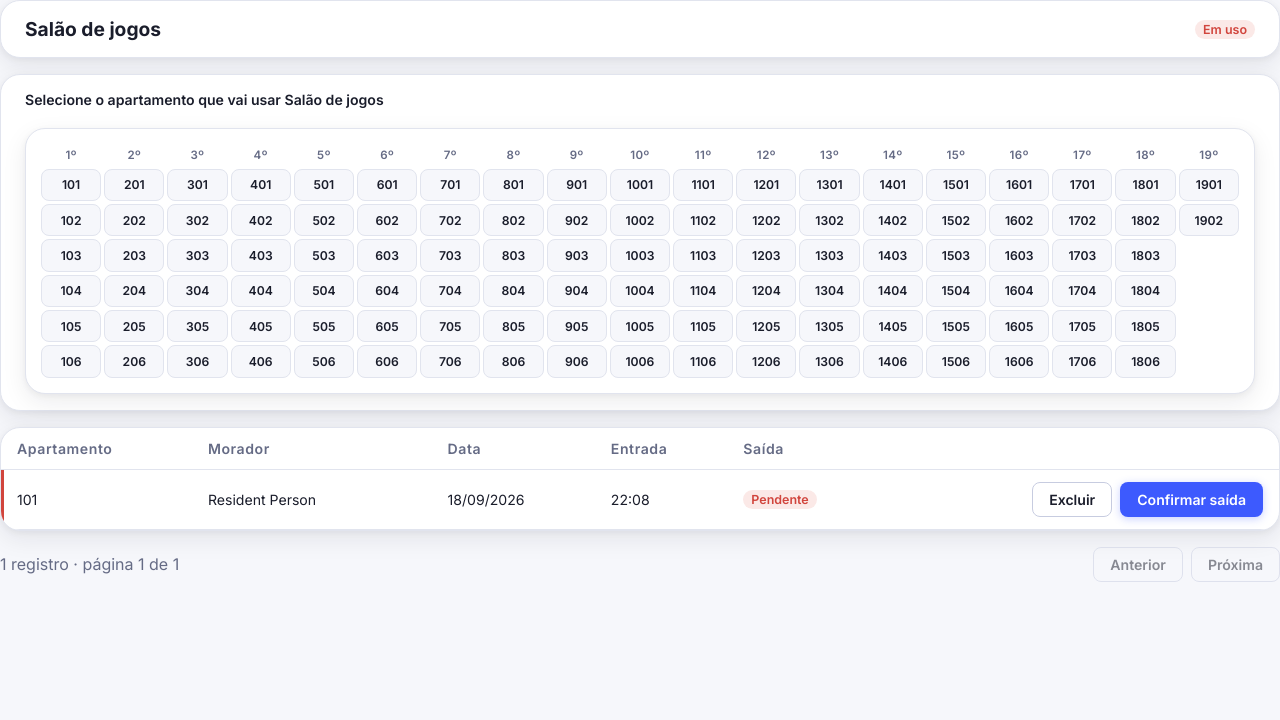
Scenario: MezaninoRoomPanel › shows an error toast when confirming an exit fails
The image size is (1280, 720).
Click the button "Confirmar saída" at (1192, 499), box [1120,482,1263,517]
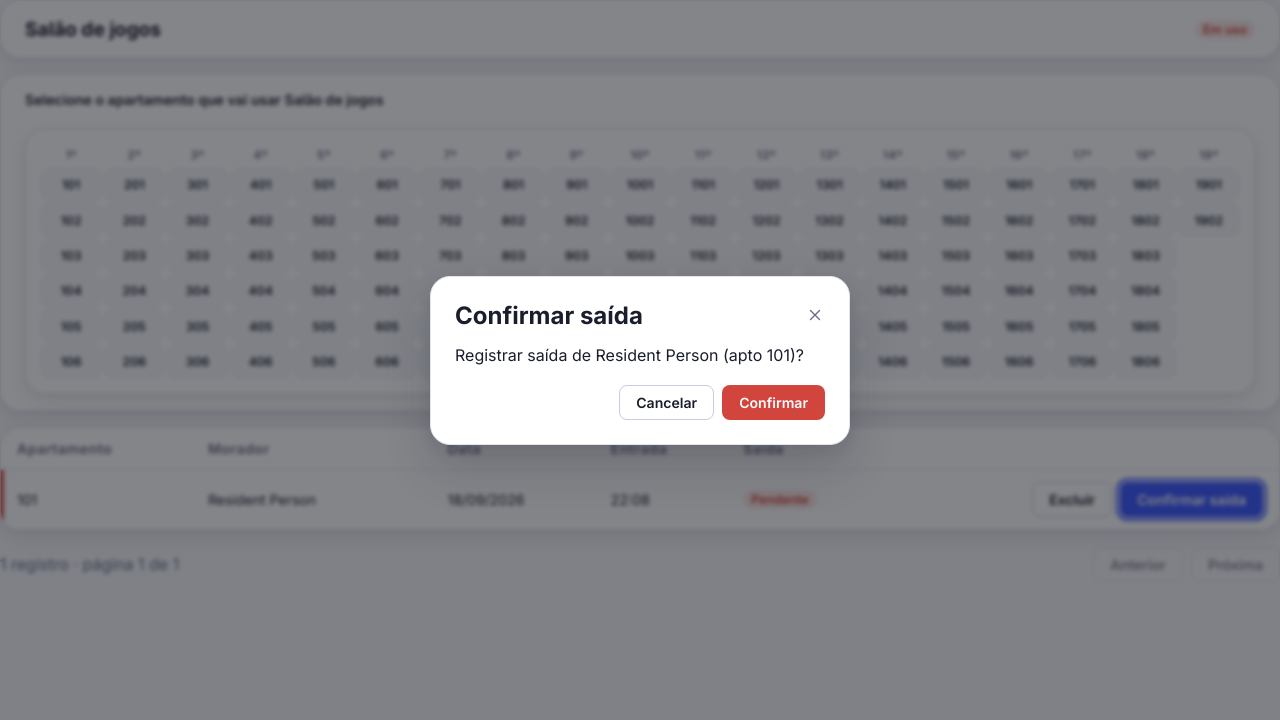
Click the button "Confirmar" at (774, 402), box [722,384,825,420]
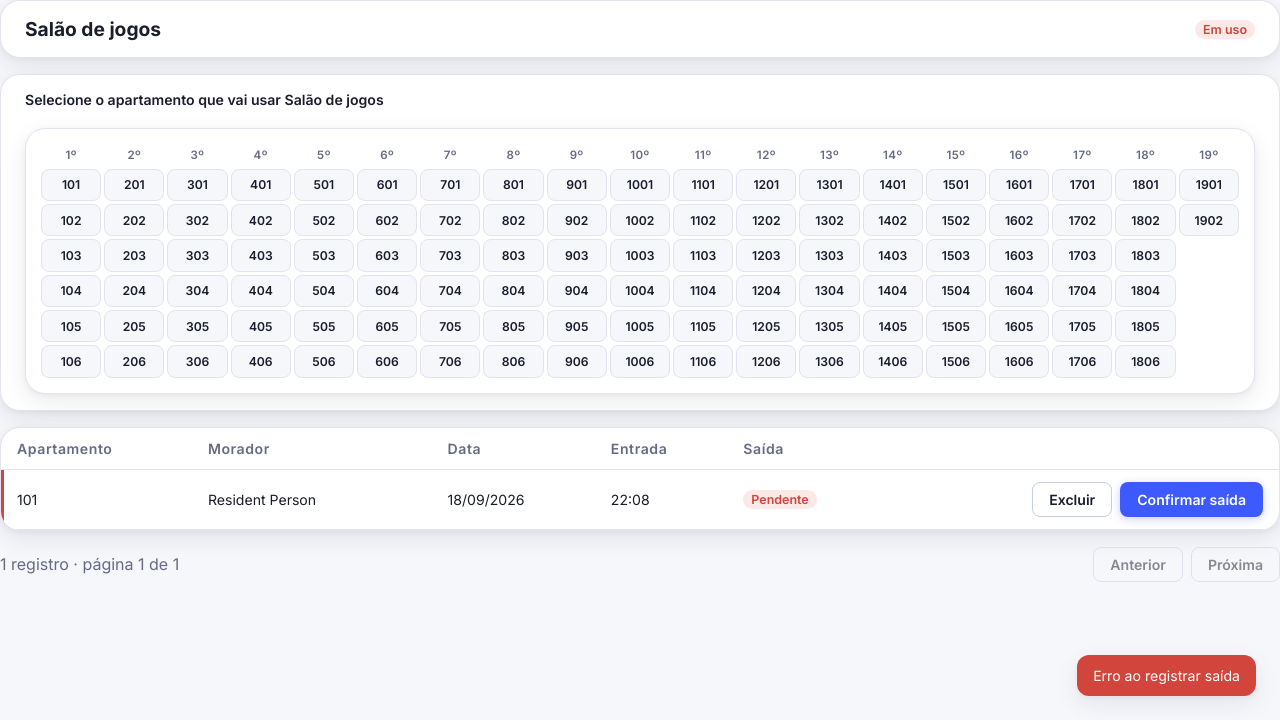
Now the text "Erro ao registrar saída" is shown, box [1077,655,1256,696]
